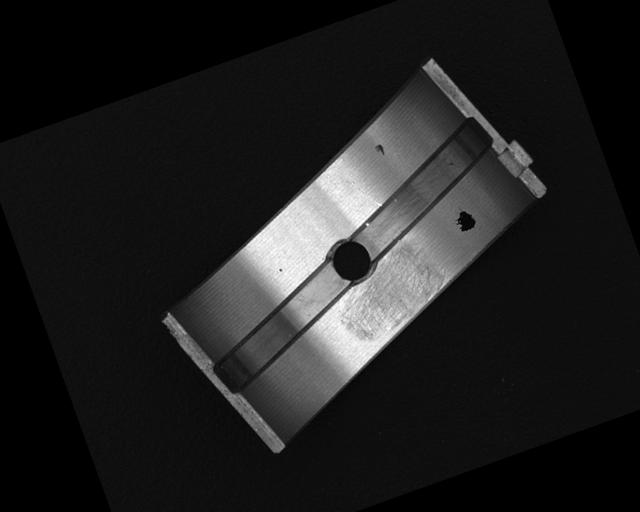blot: (452, 207, 478, 234)
bruise: (372, 140, 388, 158), (277, 266, 283, 273)
gap: (328, 112, 519, 266), (188, 257, 371, 401)
hole: (319, 227, 384, 292)
nick: (347, 171, 383, 213)
scratch: (321, 235, 459, 350)
